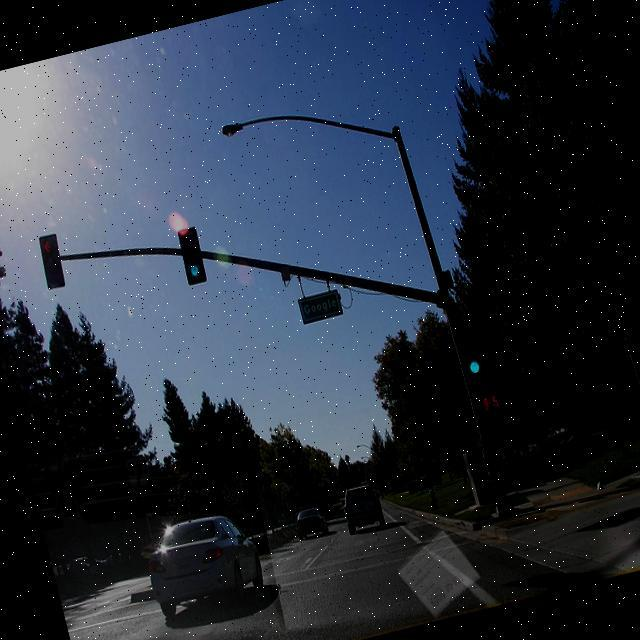fire_hydrant: (426, 486, 439, 509)
